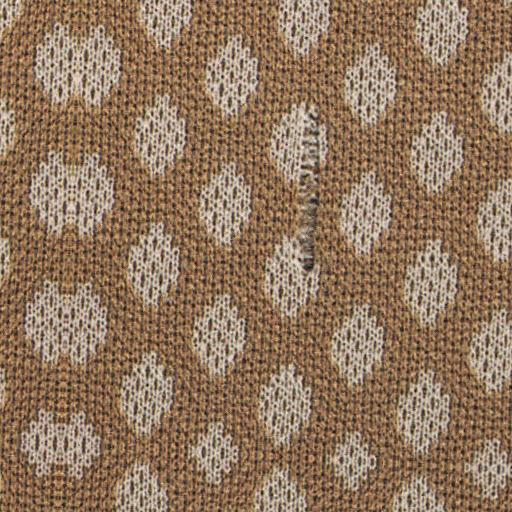slub: (287, 113, 326, 275)
